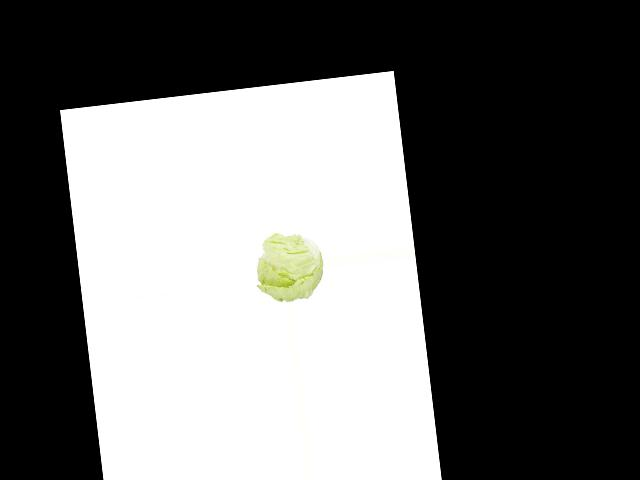lettuce: (252, 230, 329, 304)
